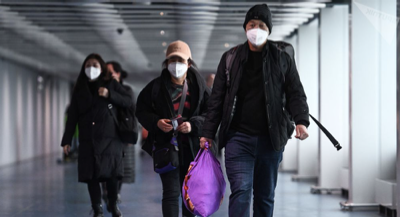with_mask: (245, 19, 270, 47), (168, 56, 188, 79), (84, 60, 102, 80)
